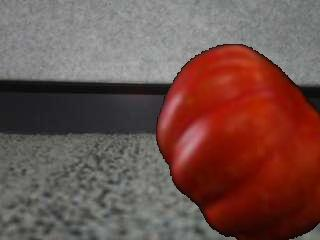Pumpkin: (156, 44, 320, 240)
